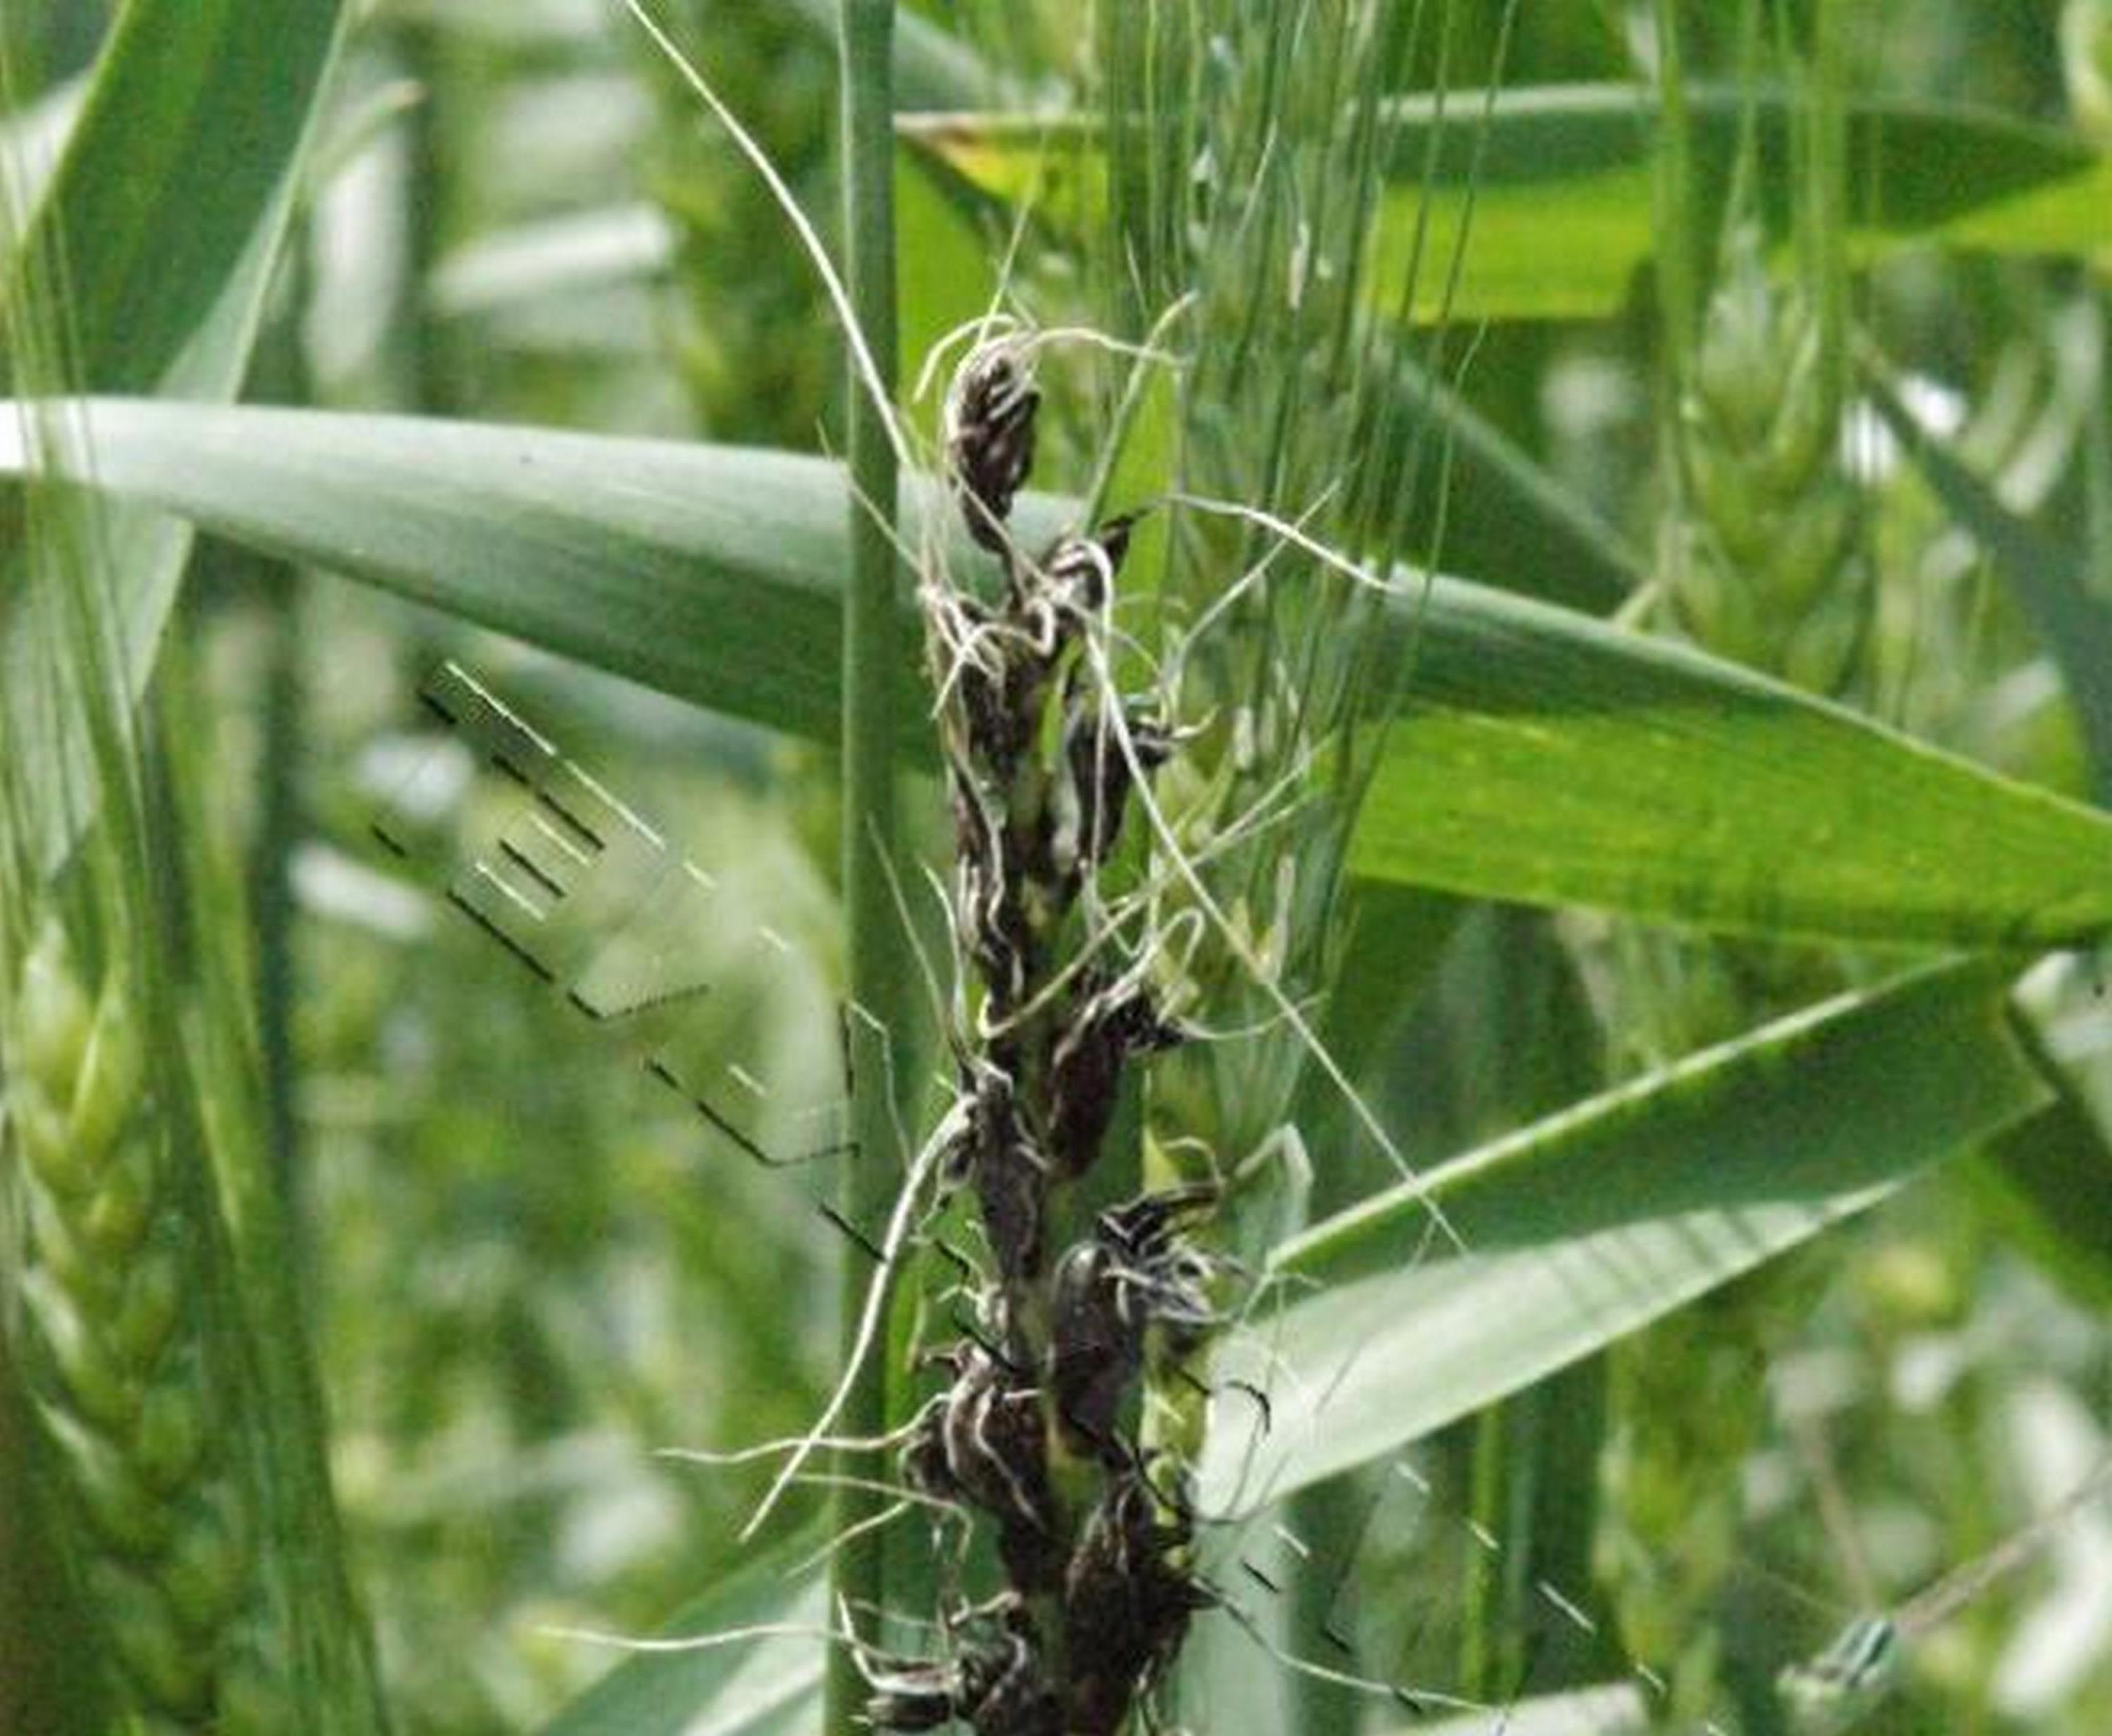Wheat Loose Smut: (860, 361, 1214, 1706)
